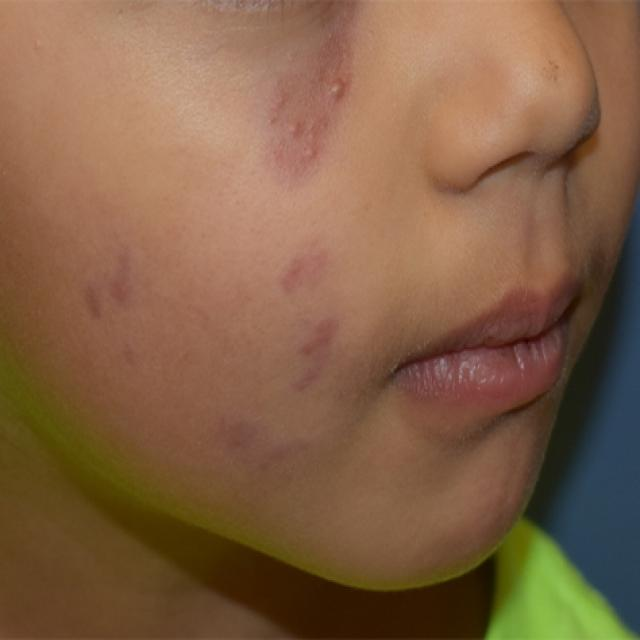lupus: (257, 28, 358, 420)
